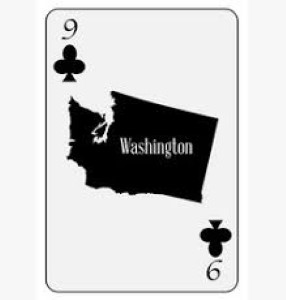NineOfClubs: (41, 4, 246, 295)
